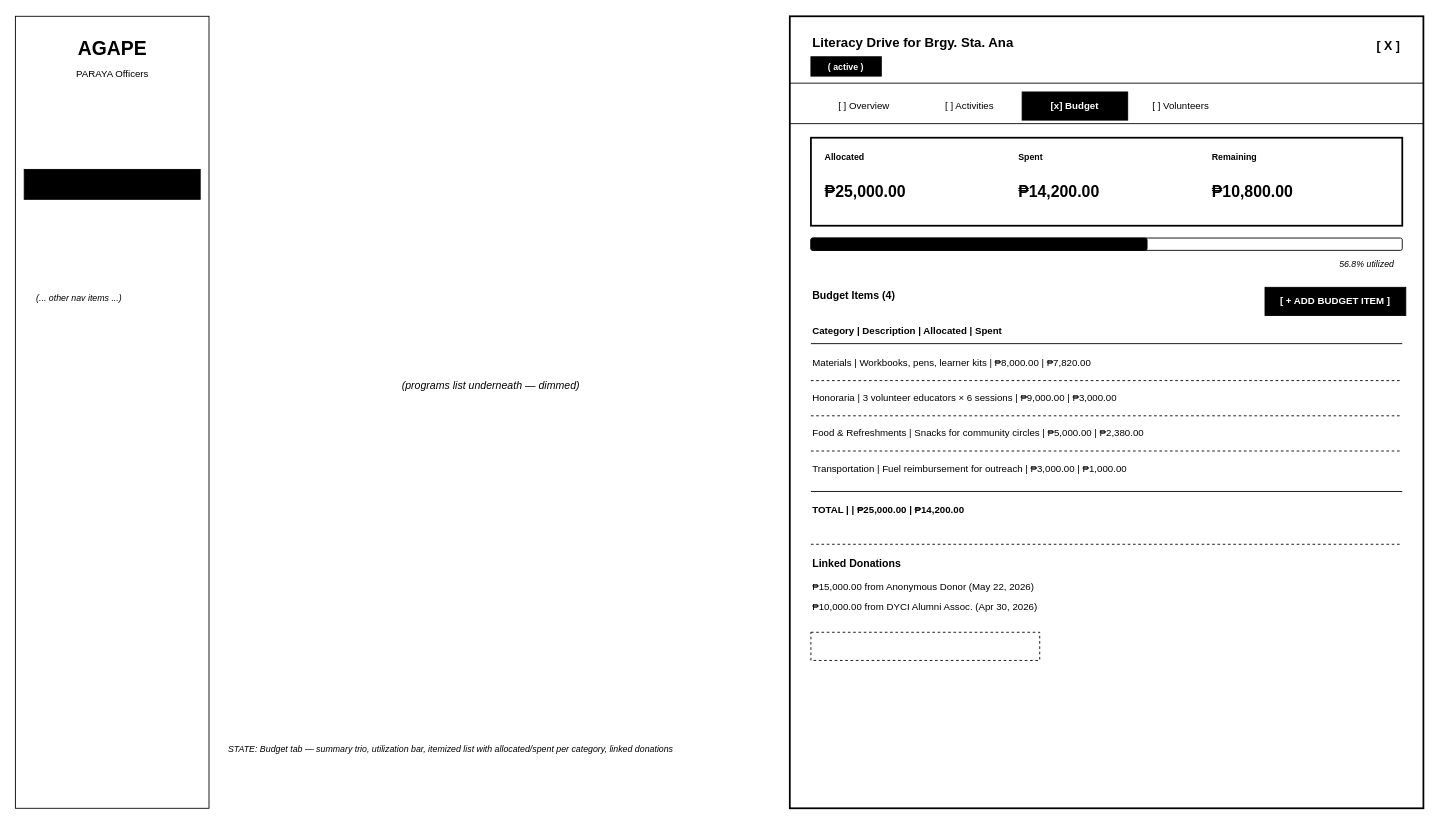
The diagram is 1440 pixels wide and 824 high, and some of its shapes have lost their labels. Here are the shapes that lost their labels. From the top down, the box of each, then its label:
(23, 169, 200, 199): [x] Programs
(810, 631, 1040, 660): [ Export budget & donations as Excel ]
